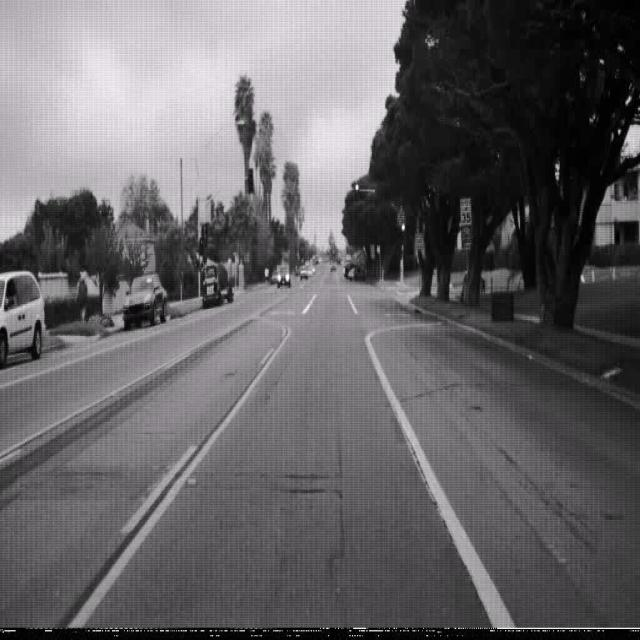speedLimit35: (459, 196, 472, 227)
